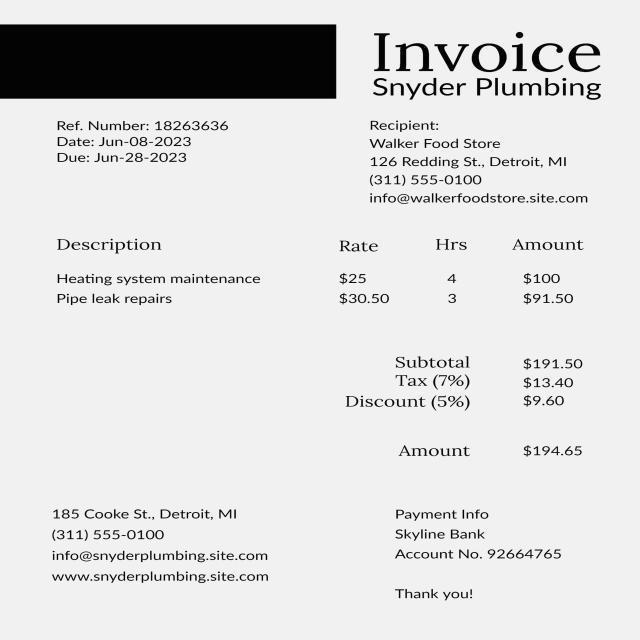paragraph: (332, 341, 596, 467), (363, 117, 596, 210), (371, 25, 606, 104), (50, 505, 272, 588), (392, 508, 573, 606), (47, 115, 233, 166)
table: (51, 229, 591, 328)
